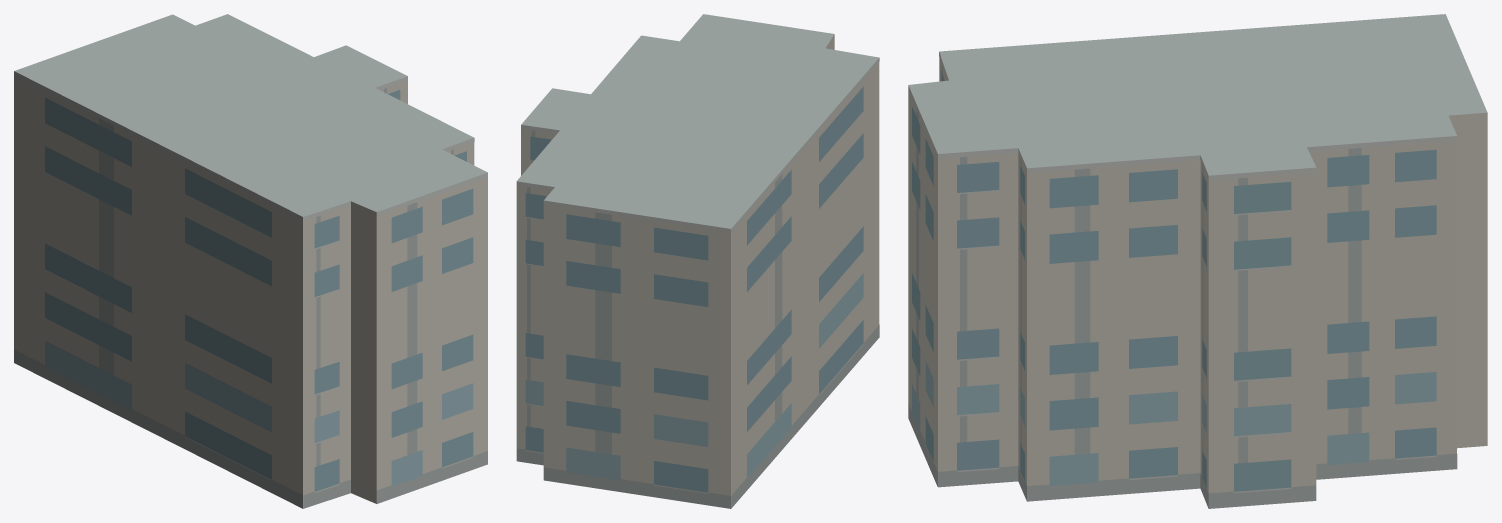
File: survey-upis-32832572.glb
3 renders of one model, left to right at view 1: azimuth 30°, elevation 25°; view 2: azimuth 150°, elevation 25°; view 3: azimuth 270°, elevation 25°, orthographic. The views are drawn at different scales.
Parts seen in each view (by area): view 1: survey-upis-32832572.tmp; view 2: survey-upis-32832572.tmp; view 3: survey-upis-32832572.tmp.
Boxes of the visible parts, left/top/right/bottom form: survey-upis-32832572.tmp: left=14, top=14, right=487, bottom=508; survey-upis-32832572.tmp: left=516, top=14, right=879, bottom=508; survey-upis-32832572.tmp: left=908, top=14, right=1487, bottom=508.
Bounding box in the file's own units: 17.4 × 16.72 × 26.35.
